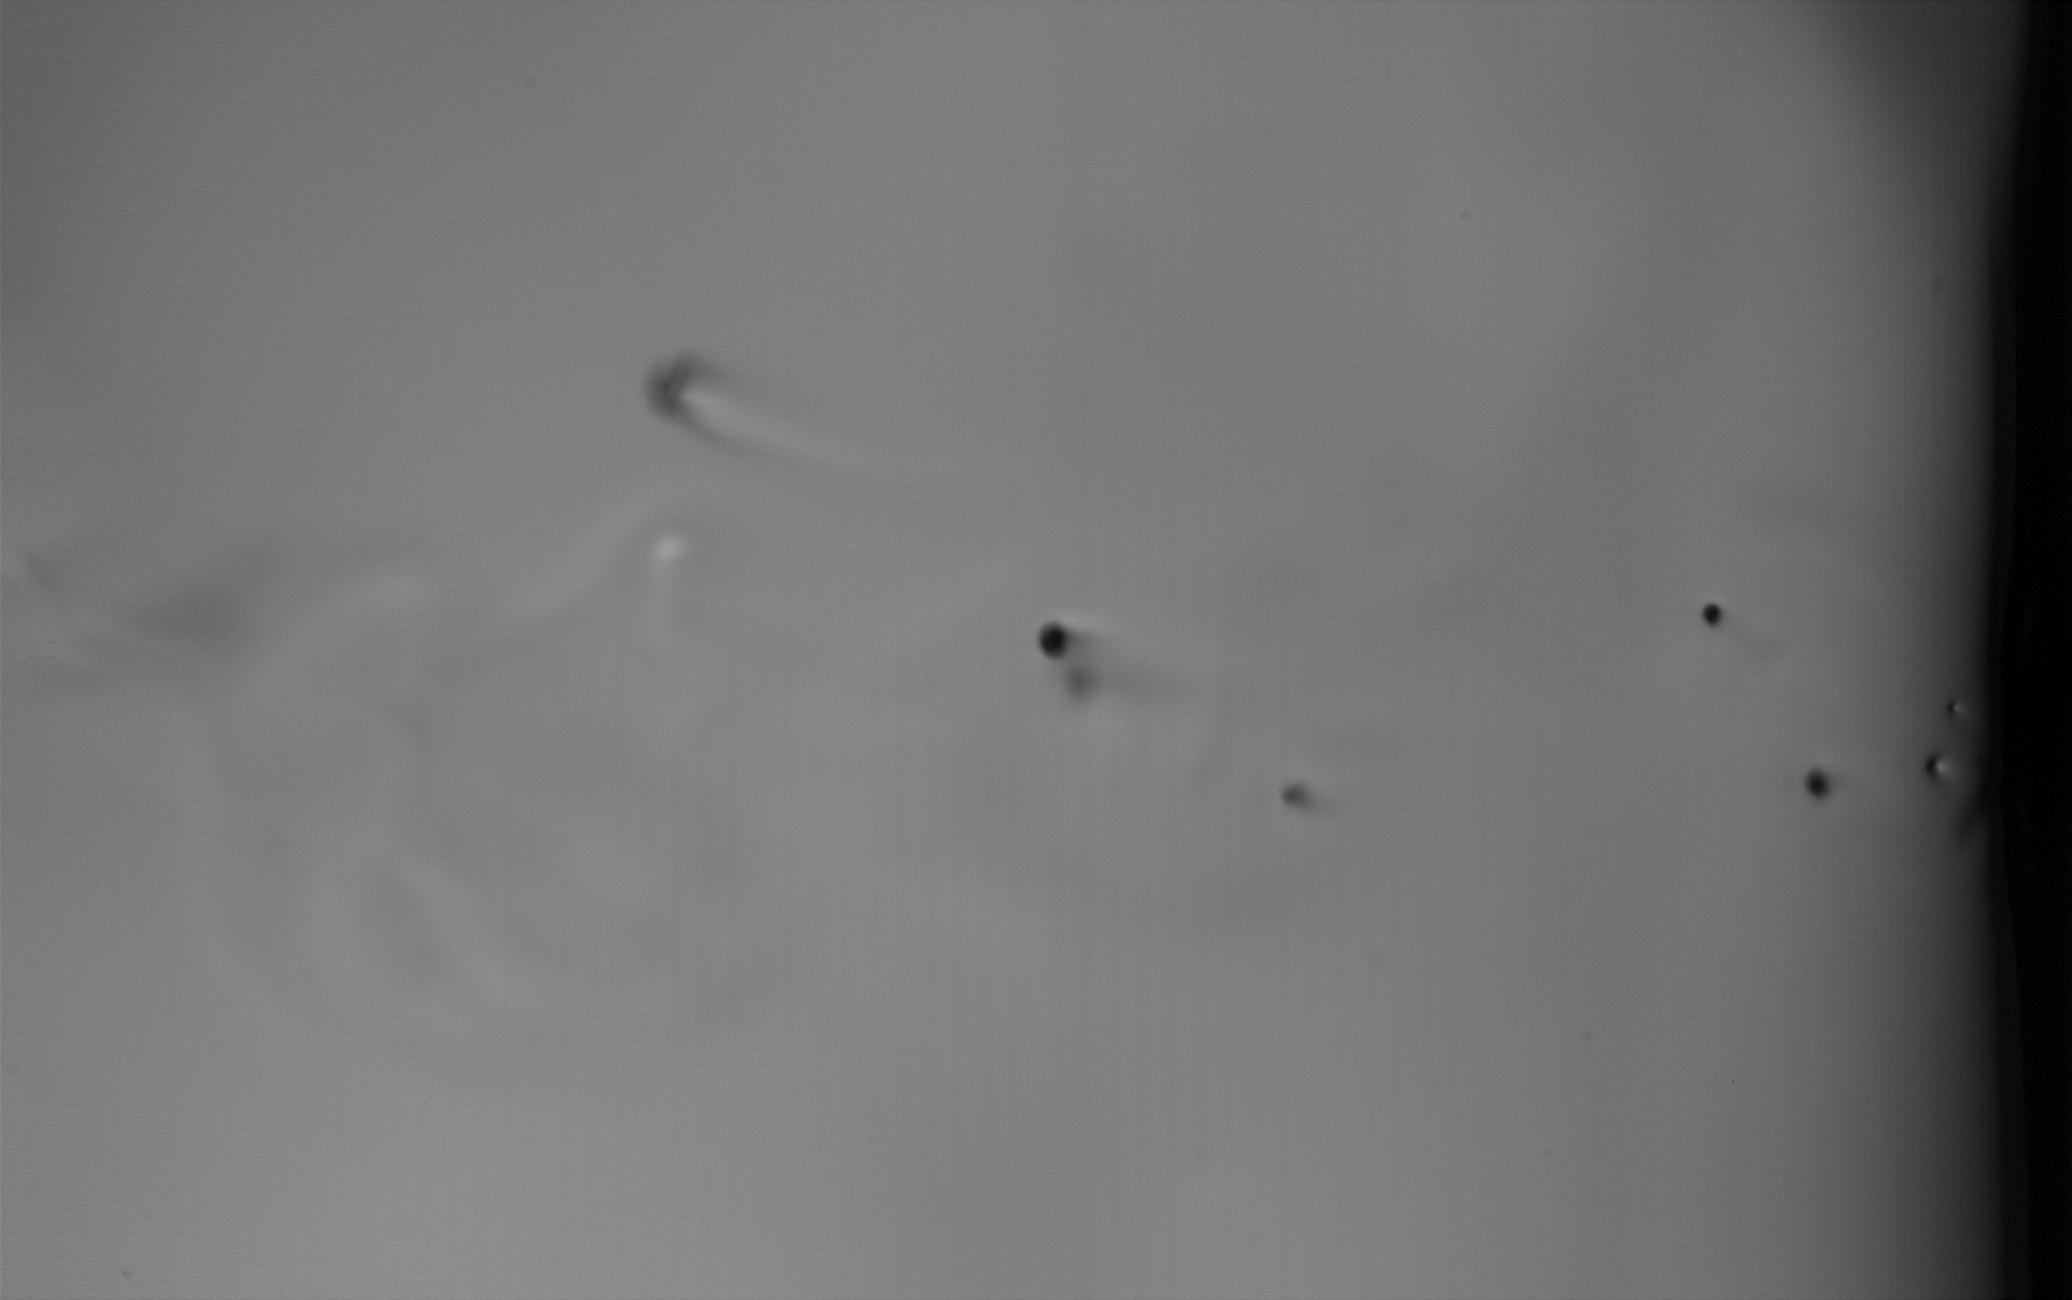Blurry: (1064, 665, 1097, 696), (1280, 780, 1311, 812)
ClassicalEvaporation: (1035, 619, 1069, 660), (1806, 767, 1828, 798), (1698, 604, 1722, 628)
DiffusiveMixing: (645, 359, 713, 421)
